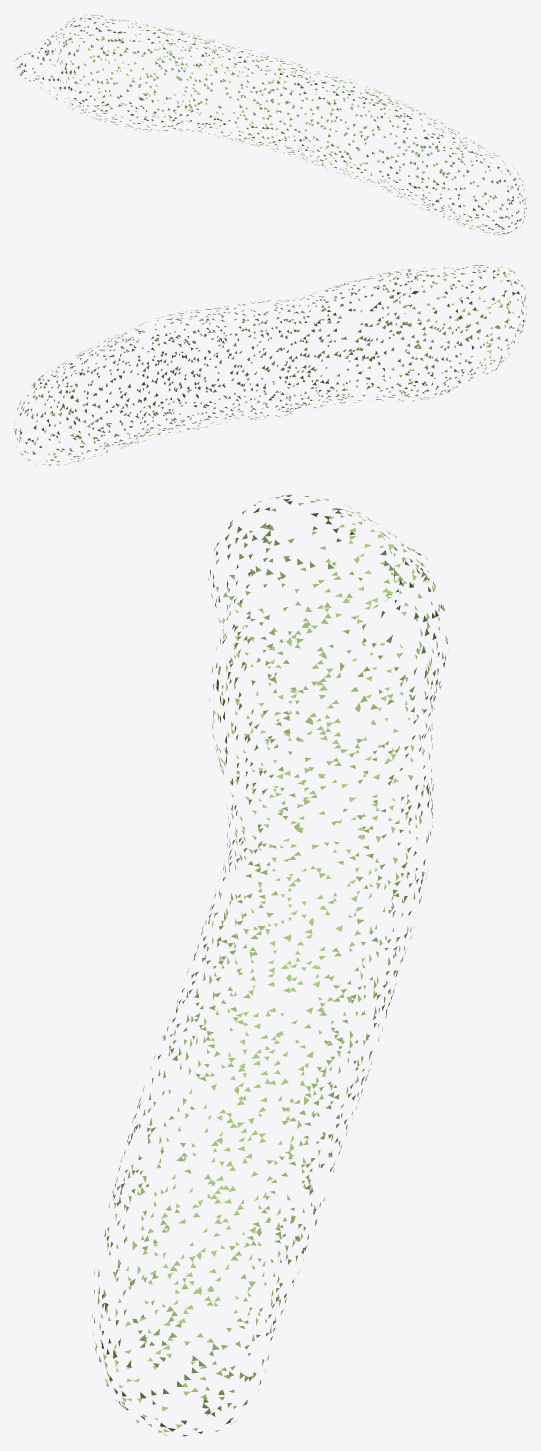
Rendered from morph_012.glb.
3 renders of one model, top to bottom at view 1: azimuth 30°, elevation 25°; view 2: azimuth 150°, elevation 25°; view 3: azimuth 270°, elevation 25°, orthographic. The views are drawn at different scales.
Bounding box in the file's own units: 102 × 60.92 × 35.53.
